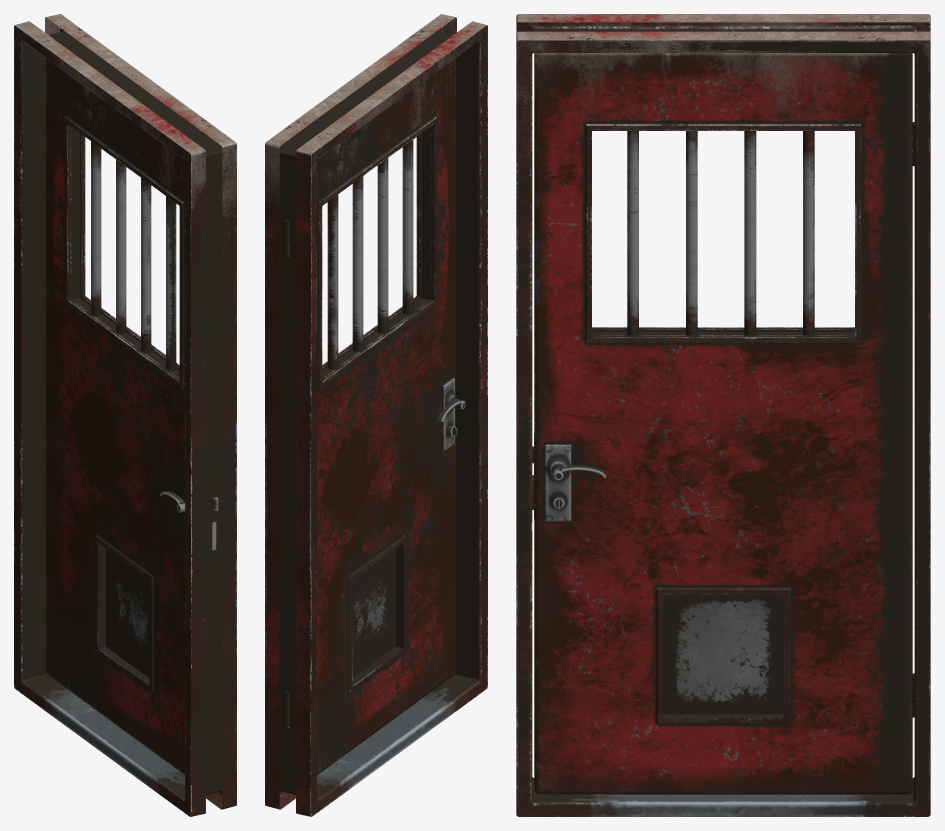
The model's file is Door metal.glb.
The picture shows the model from 3 angles, left to right: view 1: azimuth 30°, elevation 25°; view 2: azimuth 150°, elevation 25°; view 3: azimuth 270°, elevation 25°; orthographic projection. The views are drawn at different scales.
Parts seen in each view (by area): view 1: prison_door_2_3_prison door_0.001, prison_door_2_2; view 2: prison_door_2_3_prison door_0.001, prison_door_2_2; view 3: prison_door_2_3_prison door_0.001, prison_door_2_2.
Boxes of the visible parts, x1=… form: prison_door_2_3_prison door_0.001: x1=46, y1=58, x2=218, y2=774; prison_door_2_2: x1=14, y1=14, x2=236, y2=816; prison_door_2_3_prison door_0.001: x1=285, y1=58, x2=465, y2=774; prison_door_2_2: x1=265, y1=14, x2=487, y2=816; prison_door_2_3_prison door_0.001: x1=532, y1=53, x2=914, y2=794; prison_door_2_2: x1=516, y1=14, x2=930, y2=816.
Size of the model in its own units: 0.2333 by 2.78 by 1.35.
1 material, 1 textured.
